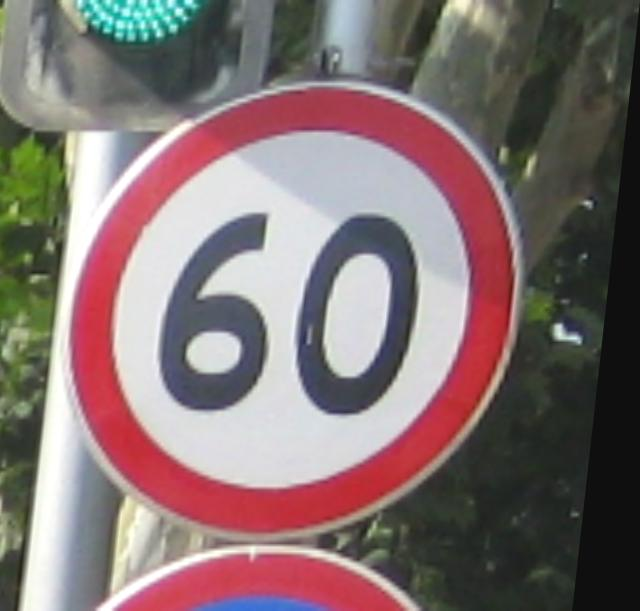limit60: (38, 68, 561, 548)
